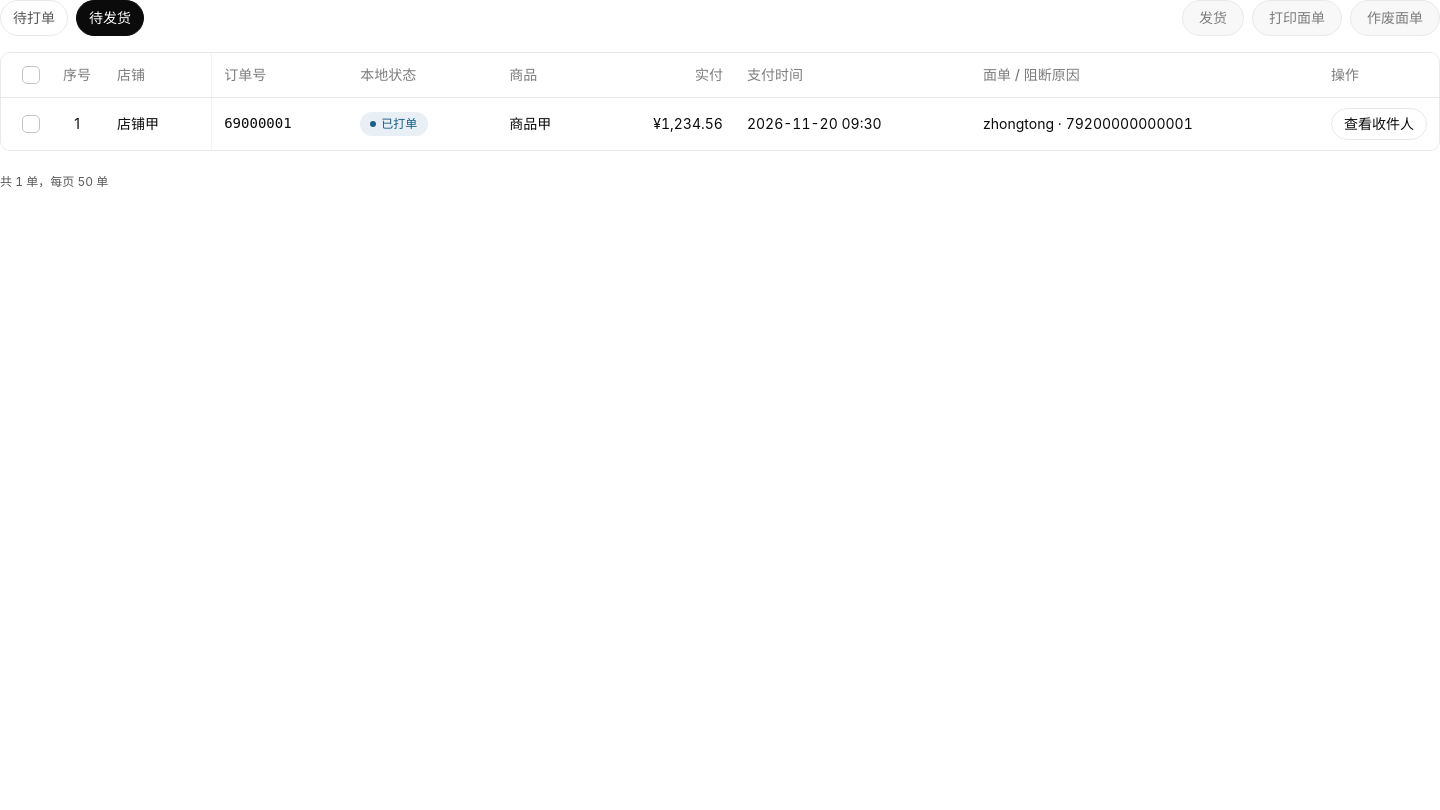
Scenario: 待发货阶段：发货（原发货台） › 勾选后发货：先做发货前检查，展示结果与按住确认按钮
The image size is (1440, 810).
Click the checkbox named "选择订单 69000001".
click(31, 124)  # box 13,106 -> 49,142
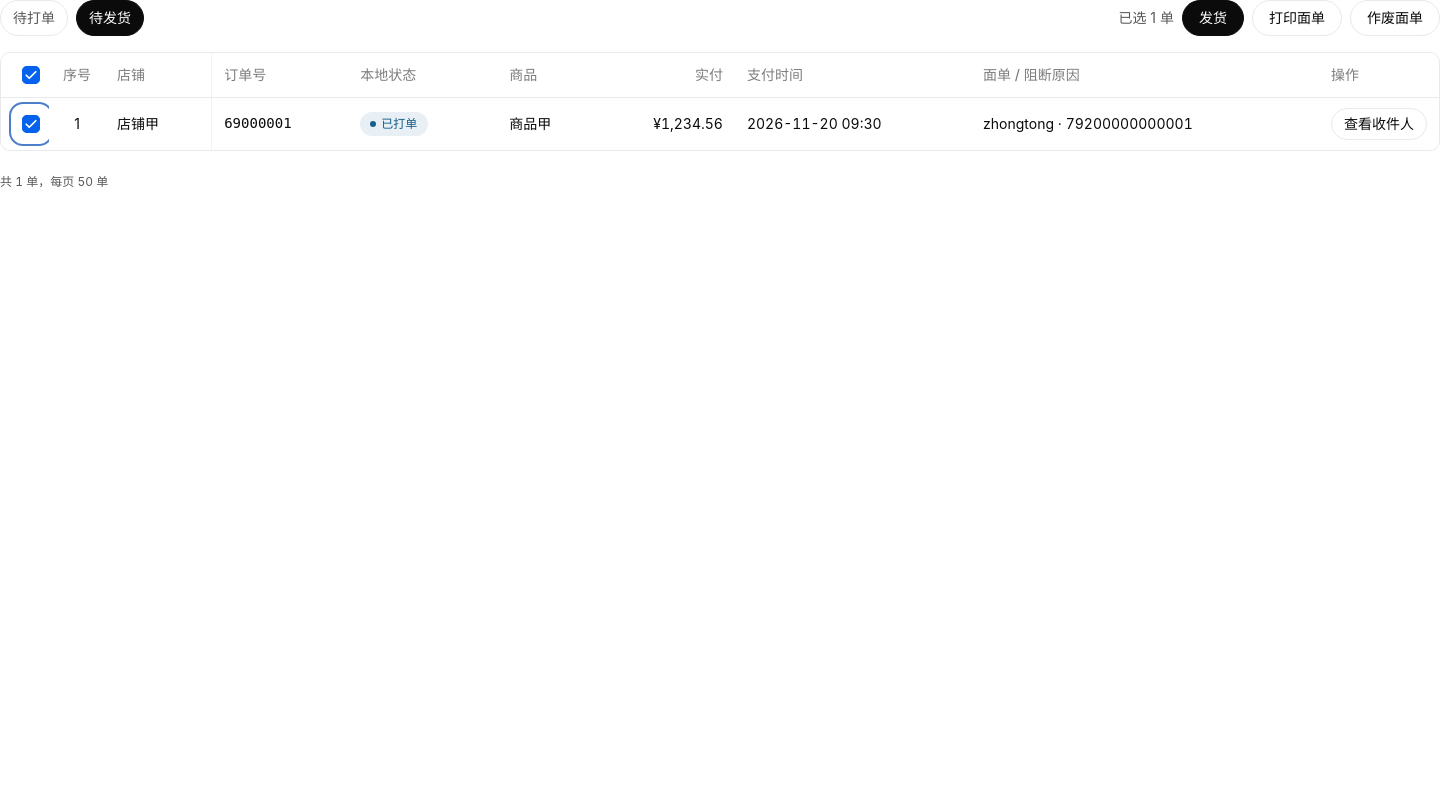
Click the button "发货".
click(1213, 18)  # box 1182,0 -> 1244,36
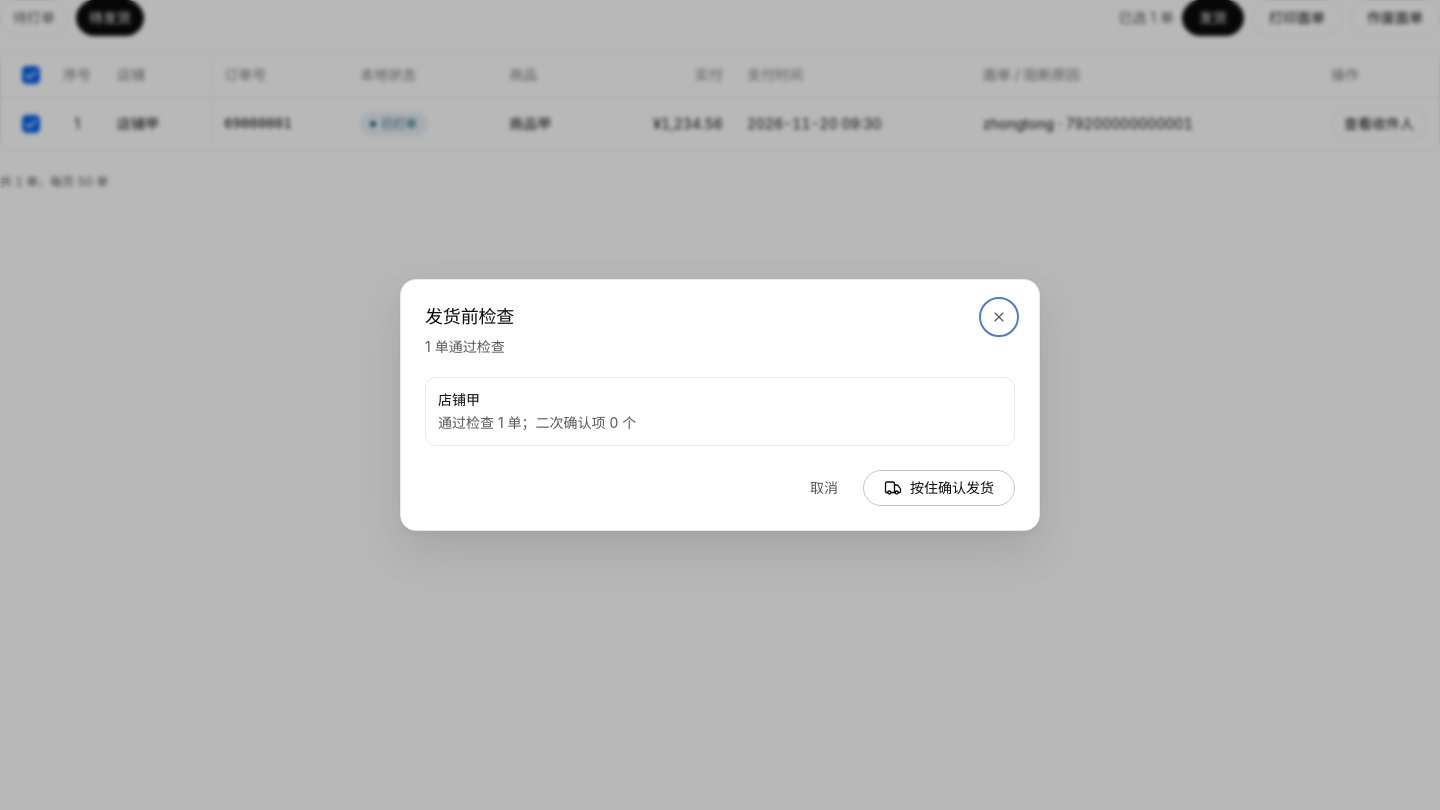
expect the button "按住确认发货 按住确认发货" is enabled: met, box 863,470 -> 1015,506
expect the text "通过检查 1 单；二次确认项 0 个" is shown: met, box 438,414 -> 636,431
